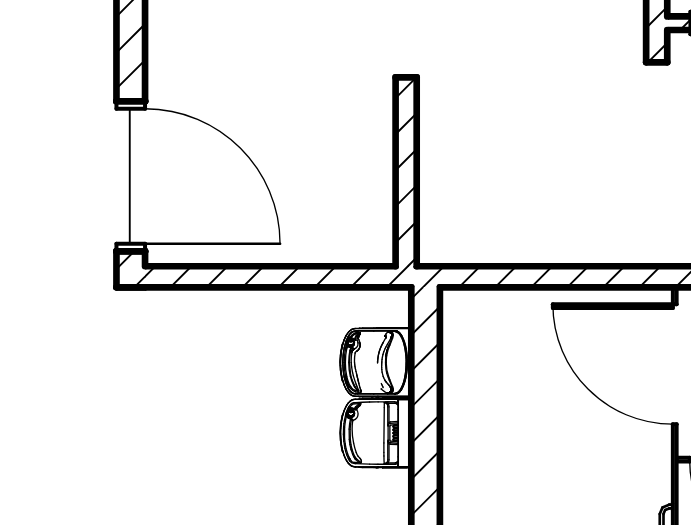door: (122, 105, 286, 256), (548, 296, 683, 429)
